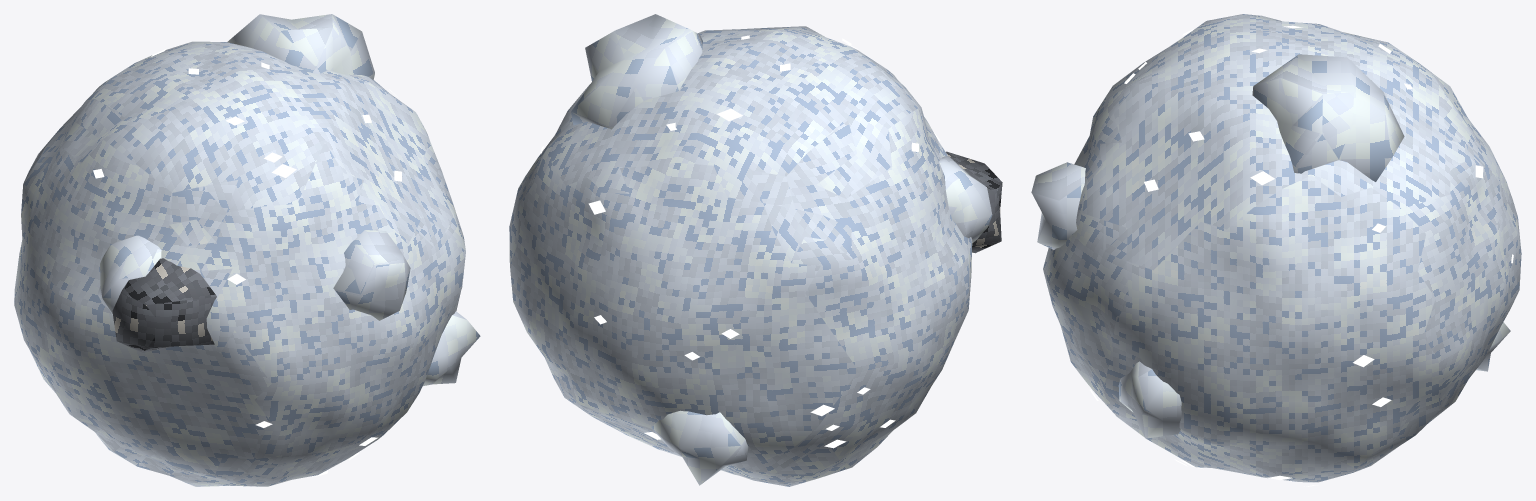
The model's file is pj_snowball.glb.
The picture shows the model from 3 angles, left to right: view 1: azimuth 30°, elevation 25°; view 2: azimuth 150°, elevation 25°; view 3: azimuth 270°, elevation 25°; orthographic projection. The views are drawn at different scales.
Visible parts, largest first — view 1: psnow_body_wzA, psnow_body_wzB, psnow_body_wzN; view 2: psnow_body_wzA, psnow_body_wzB, psnow_body_wzN; view 3: psnow_body_wzA, psnow_body_wzN.
Part boxes in pixels (x1,y1,x2,y2): psnow_body_wzA: (14,14,480,486); psnow_body_wzB: (112,258,216,352); psnow_body_wzN: (47,48,401,476); psnow_body_wzA: (509,14,992,486); psnow_body_wzB: (946,151,1002,253); psnow_body_wzN: (539,35,940,448); psnow_body_wzA: (1031,14,1521,482); psnow_body_wzN: (1090,25,1513,486).
Size of the model in its own units: 0.2645 by 0.2654 by 0.275.
4 materials, 3 textured.
